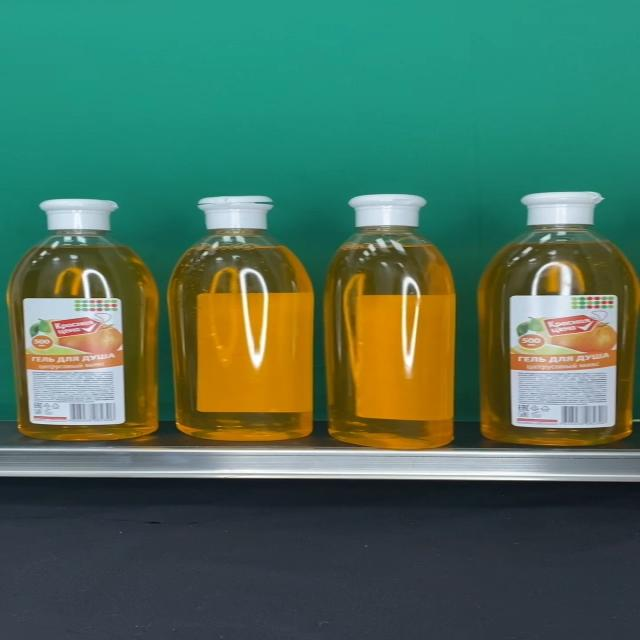Bottle: (477, 191, 640, 445), (8, 198, 158, 440), (167, 196, 313, 442), (325, 195, 456, 449)
Cap: (518, 192, 606, 226), (346, 195, 428, 228), (39, 198, 117, 232), (196, 196, 273, 230)
